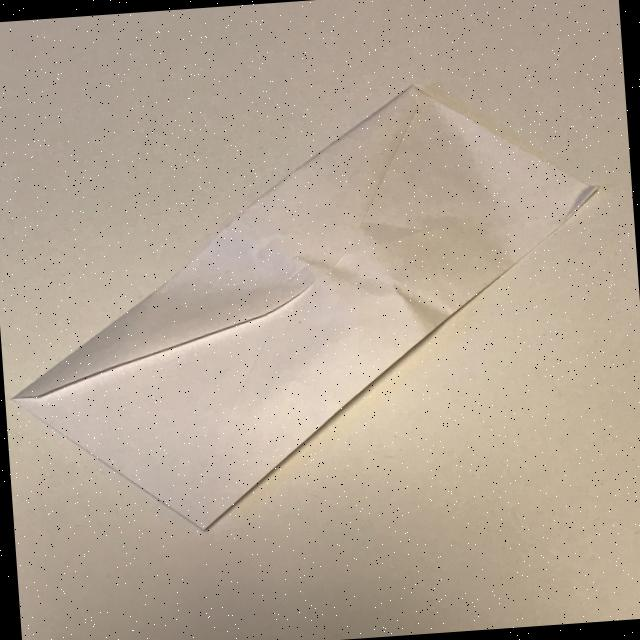paper: (0, 70, 620, 543)
